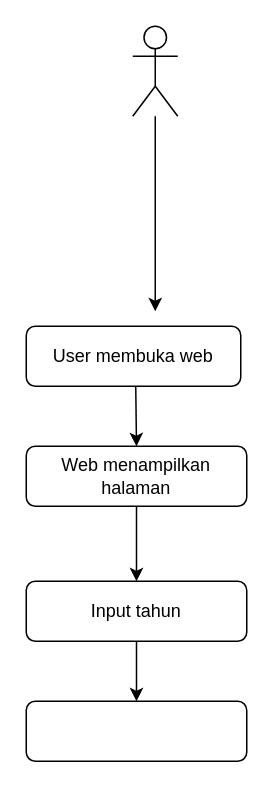
The diagram is 273 pixels wide and 788 high, and some of its shapes have lost their labels. The shapes that lost their labels are listed below. From the top down, each one's box as (x1, y1, x2, y2) in pixels, then its label:
(131, 25, 178, 116): User
(25, 700, 247, 761): Menampilkan Hasil Prediksi
